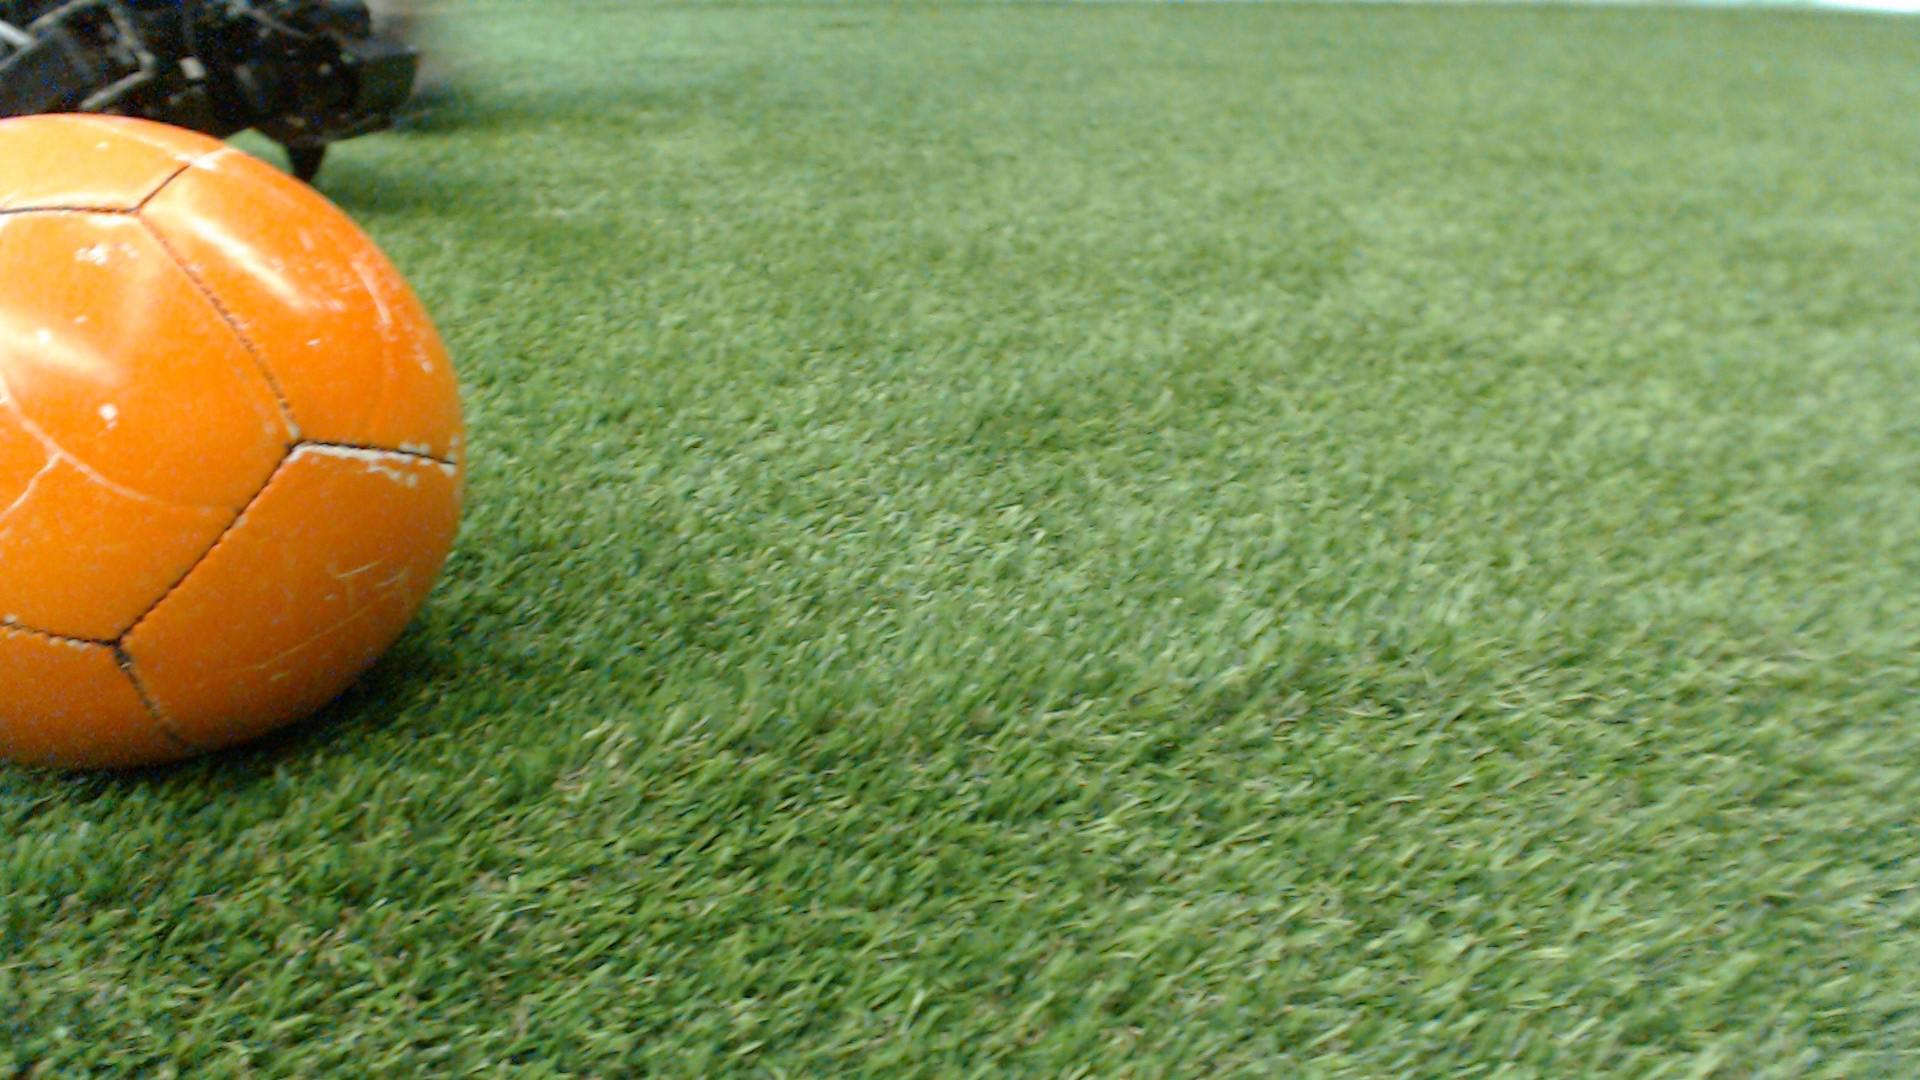bola: (0, 102, 502, 804)
